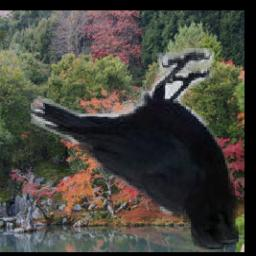Crow: (32, 49, 240, 250)
